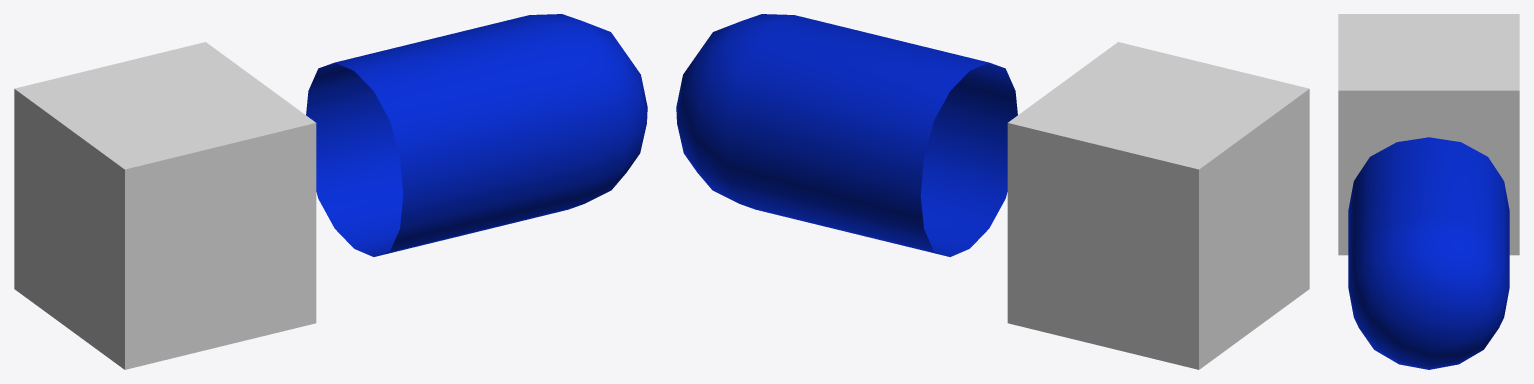
Rendered from B_Medic_0_018.FBX.
3 views of the same model, side by side, from view 1: azimuth 30°, elevation 25°; view 2: azimuth 150°, elevation 25°; view 3: azimuth 270°, elevation 25° (orthographic). The views are drawn at different scales.
Visible parts, largest first — view 1: Box001, Group001; view 2: Box001, Group001; view 3: Group001, Box001.
Boxes of the visible parts, box(x1,y1,x2,y2) form: Box001: box(14, 42, 316, 369); Group001: box(306, 14, 647, 256); Box001: box(1007, 42, 1309, 369); Group001: box(676, 14, 1017, 256); Group001: box(1348, 137, 1509, 369); Box001: box(1338, 14, 1519, 255).
Bounding box in the file's own units: 0.6578 × 0.2232 × 0.2232.
Materials: 2 (2 with a texture image).
